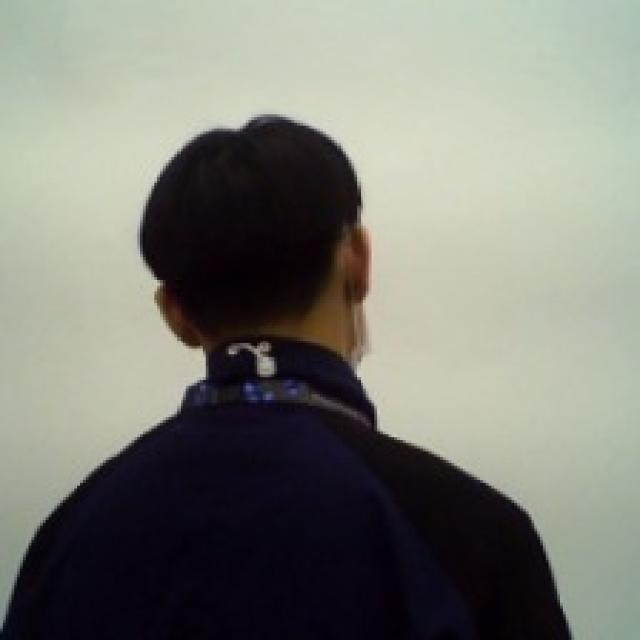no_gloves: (140, 107, 375, 359)
